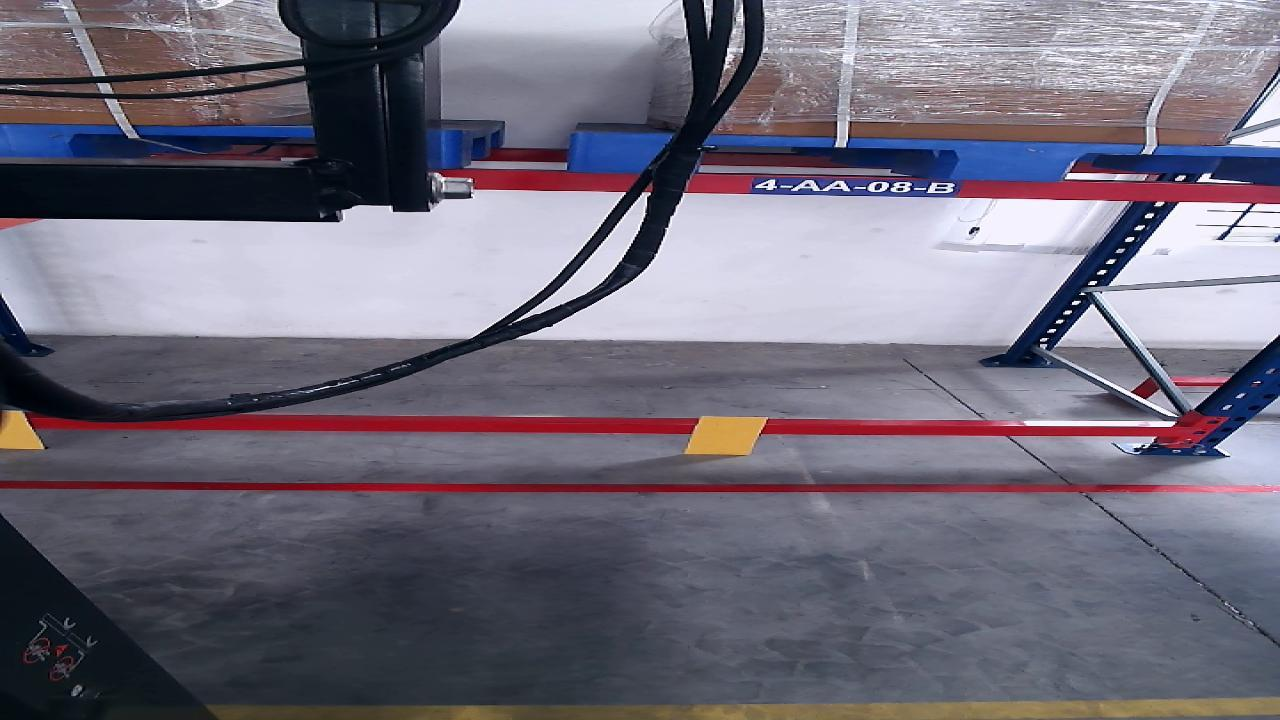h_rack: (477, 172, 1279, 202), (31, 419, 1176, 438)
orange_strip: (681, 415, 763, 455)
red_line: (7, 481, 1222, 493)
small_pallet: (574, 131, 1279, 185), (1, 123, 450, 166)
yellow_line: (203, 698, 1280, 720)
